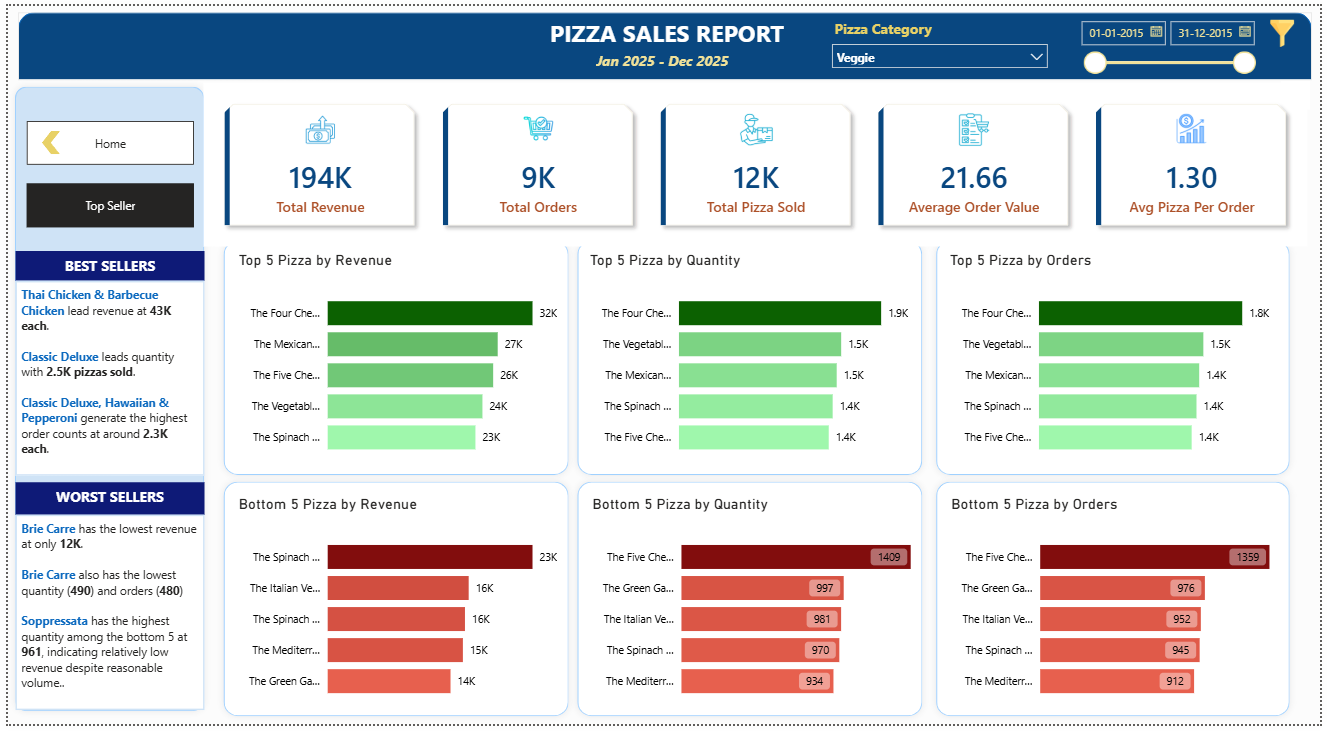

The dashboard page shown, as its layout file describes it:
{"tool":"powerbi","page":{"name":"Top Seller","canvas":[1500,820],"ordinal":1},"visuals":[{"type":"shape","box":[11.4,7.1,1478.6,77.1],"z":0},{"type":"textbox","box":[614.3,7.1,280,50],"z":1000},{"type":"textbox","box":[666.7,46.2,167.9,35.9],"z":2000},{"type":"shape","box":[238.5,260.2,410,284],"z":3000},{"type":"shape","box":[0,84.6,232.1,729.5],"z":4000},{"type":"textbox","box":[8,280.5,216.1,33.3],"z":5000},{"type":"textbox","box":[8.6,313.6,216,222.2],"z":6000},{"type":"textbox","box":[8,581.6,216.1,223],"z":7000},{"type":"textbox","box":[8.6,544.4,216,37],"z":8000},{"type":"shape","box":[643.5,260.2,409.9,284],"z":9000},{"type":"shape","box":[1053.1,260.5,419.8,284],"z":10000},{"type":"shape","box":[238.3,535.8,410,284],"z":11000},{"type":"shape","box":[643.2,535.8,410,284],"z":12000},{"type":"shape","box":[1053.1,535.8,419.8,284],"z":13000},{"type":"barChart","title":"Top 5 Pizza by Orders","fields":{"Category":["pizza_sales.pizza_name"],"Y":["pizza_sales.Total Orders"]},"box":[1071.6,280.2,375.3,246.9],"z":14000},{"type":"barChart","title":"Bottom 5 Pizza by Revenue","fields":{"Category":["pizza_sales.pizza_name"],"Y":["pizza_sales.Total Revenue"]},"box":[258,558,374.1,246.9],"z":15000},{"type":"barChart","title":"Top 5 Pizza by Revenue","fields":{"Category":["pizza_sales.pizza_name"],"Y":["pizza_sales.Total Revenue"]},"box":[258,280.2,374.1,246.9],"z":16000},{"type":"barChart","title":"Bottom 5 Pizza by Quantity","fields":{"Category":["pizza_sales.pizza_name"],"Y":["pizza_sales.Total Pizza Sold"]},"box":[663,558,374.1,246.9],"z":17000},{"type":"barChart","title":"Top 5 Pizza by Quantity","fields":{"Category":["pizza_sales.pizza_name"],"Y":["pizza_sales.Total Pizza Sold"]},"box":[660.5,280.2,374.1,246.9],"z":18000},{"type":"barChart","title":"Bottom 5 Pizza by Orders","fields":{"Category":["pizza_sales.pizza_name"],"Y":["pizza_sales.Total Orders"]},"box":[1072.8,558,374.1,246.9],"z":19000},{"type":"pageNavigator","box":[21,130.9,191.4,50.6],"z":20000},{"type":"pageNavigator","box":[21,202.5,191.4,50.6],"z":21000},{"type":"cardVisual","fields":{"Data":["pizza_sales.Total Revenue","pizza_sales.Total Orders","pizza_sales.Total Pizza Sold","pizza_sales.Average Order Value","pizza_sales.Avg Pizza Per Order"]},"box":[218.4,82.8,1271.3,197.7],"z":22000},{"type":"shape","box":[39.2,142.7,21.1,26.7],"z":23000},{"type":"slicer","fields":{"Values":["pizza_sales.pizza_category"]},"box":[932,10.7,266.7,68],"z":24000},{"type":"slicer","fields":{"Values":["pizza_sales.order_date"]},"box":[1214.7,6.7,220,72],"z":25000},{"type":"image","box":[1435,16,44,31],"z":26000}]}

Visuals, with their boxes in screenshot pixels (x1, y1, x2, y2), scaled from the page's 1500x820 canvas onto the 1327x731 screenshot:
shape: 10/6/1318/75
textbox: 543/6/791/51
textbox: 590/41/738/73
shape: 211/232/574/485
shape: 0/75/205/726
textbox: 7/250/198/280
textbox: 8/280/199/478
textbox: 7/518/198/717
textbox: 8/485/199/518
shape: 569/232/932/485
shape: 932/232/1303/485
shape: 211/478/574/730
shape: 569/478/932/730
shape: 932/478/1303/730
"Top 5 Pizza by Orders" barChart: 948/250/1280/470
"Bottom 5 Pizza by Revenue" barChart: 228/497/559/718
"Top 5 Pizza by Revenue" barChart: 228/250/559/470
"Bottom 5 Pizza by Quantity" barChart: 587/497/917/718
"Top 5 Pizza by Quantity" barChart: 584/250/915/470
"Bottom 5 Pizza by Orders" barChart: 949/497/1280/718
pageNavigator: 19/117/188/162
pageNavigator: 19/181/188/226
cardVisual - pizza_sales.Total Revenue x pizza_sales.Total Orders: 193/74/1318/250
shape: 35/127/53/151
slicer - pizza_sales.pizza_category: 825/10/1060/70
slicer - pizza_sales.order_date: 1075/6/1269/70
image: 1269/14/1308/42
